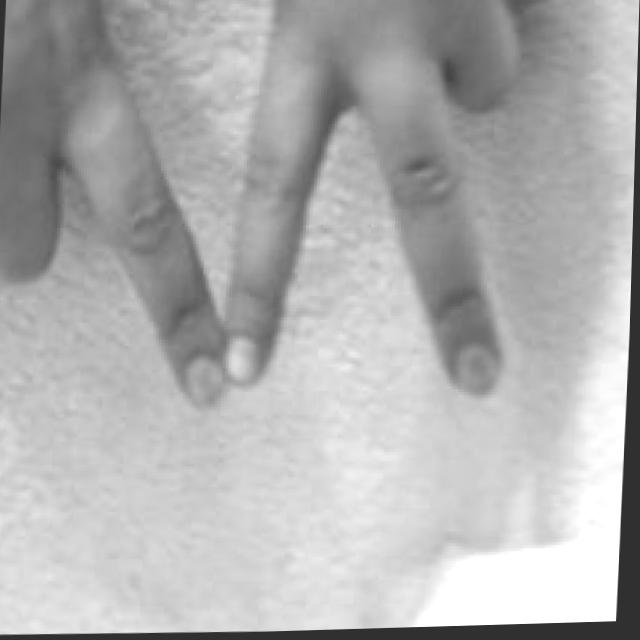N: (0, 0, 526, 432)
